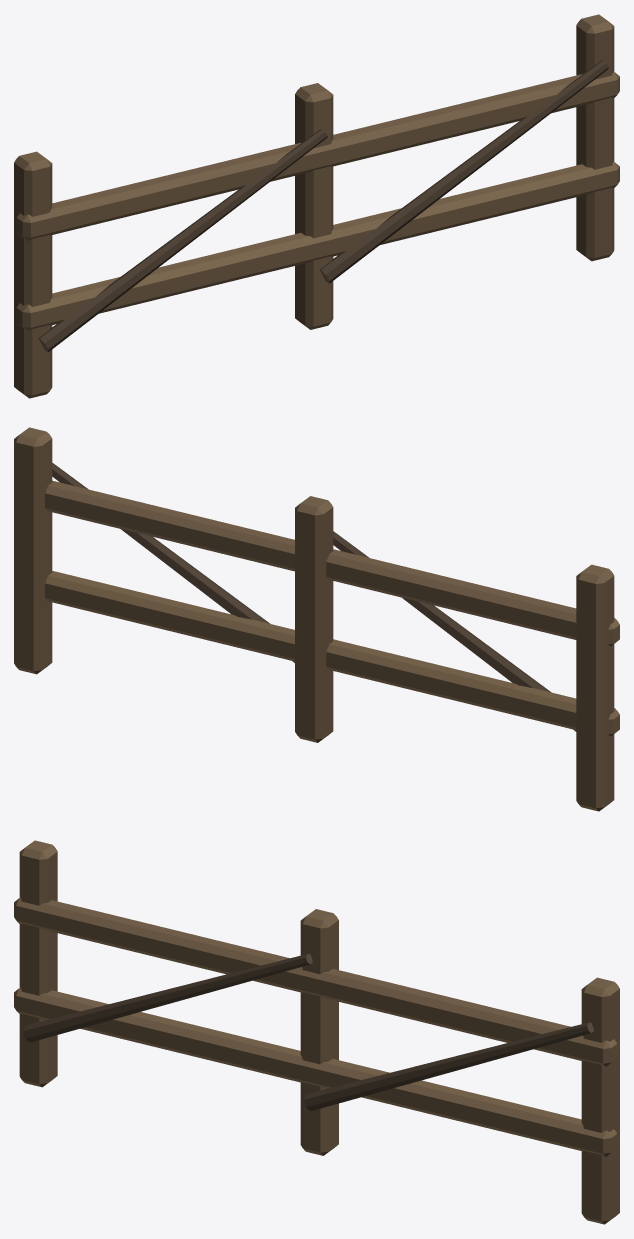
The model's file is field_fence.glb.
3 views of the same model, one above another, from view 1: azimuth 30°, elevation 25°; view 2: azimuth 150°, elevation 25°; view 3: azimuth 330°, elevation 25° (orthographic).
Visible parts, largest first — view 1: field_fence_mesh; view 2: field_fence_mesh; view 3: field_fence_mesh.
Boxes of the visible parts, box(x1,y1,x2,y2) form: field_fence_mesh: box(14, 14, 619, 398); field_fence_mesh: box(14, 427, 619, 811); field_fence_mesh: box(14, 840, 619, 1224).
Size of the model in its own units: 3.4 by 1.28 by 0.2239.
